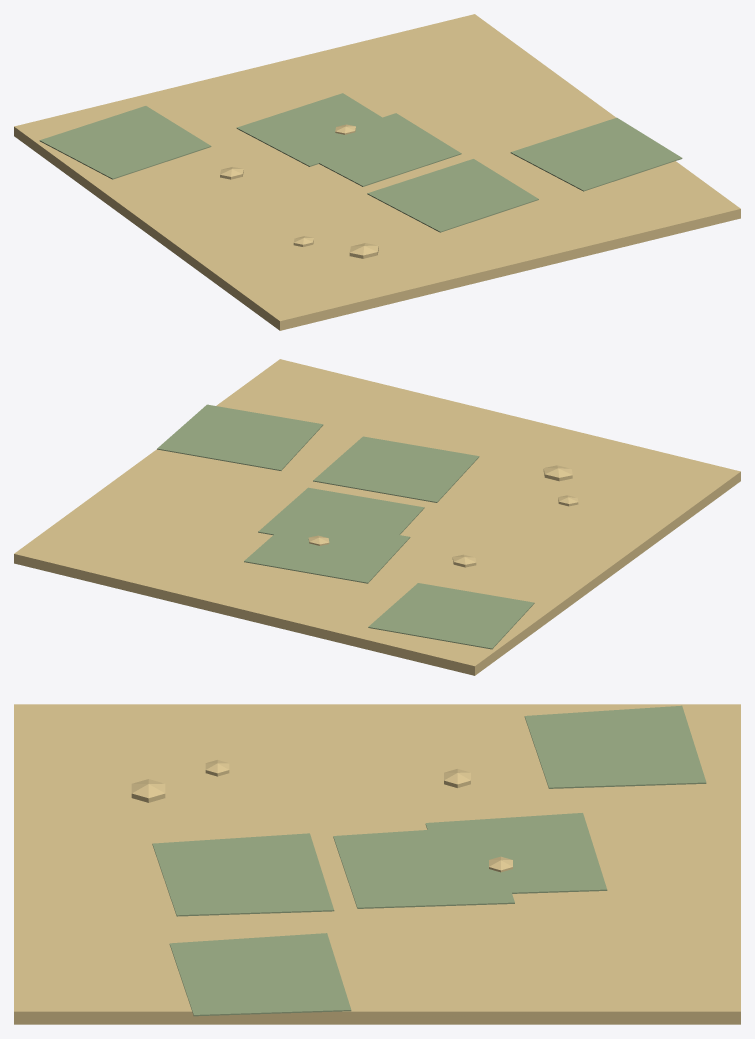
File: safari-camp-and-bush-lodge-savanna-ground-module-grass-079db451__37704.glb
The picture shows the model from 3 angles, top to bottom: view 1: azimuth 30°, elevation 25°; view 2: azimuth 150°, elevation 25°; view 3: azimuth 270°, elevation 25°; orthographic projection. The views are drawn at different scales.
Visible parts, largest first — view 1: savanna-ground-module-grass-earth, savanna-ground-module-grass-scrub; view 2: savanna-ground-module-grass-earth, savanna-ground-module-grass-scrub; view 3: savanna-ground-module-grass-earth, savanna-ground-module-grass-scrub.
Boxes of the visible parts, bbox=[...] form: savanna-ground-module-grass-earth: bbox=[14, 14, 740, 330]; savanna-ground-module-grass-scrub: bbox=[39, 93, 682, 232]; savanna-ground-module-grass-earth: bbox=[14, 359, 740, 675]; savanna-ground-module-grass-scrub: bbox=[157, 404, 534, 649]; savanna-ground-module-grass-earth: bbox=[14, 704, 740, 1024]; savanna-ground-module-grass-scrub: bbox=[152, 705, 706, 1016].
Size of the model in its own units: 6.09 by 0.2044 by 6.
